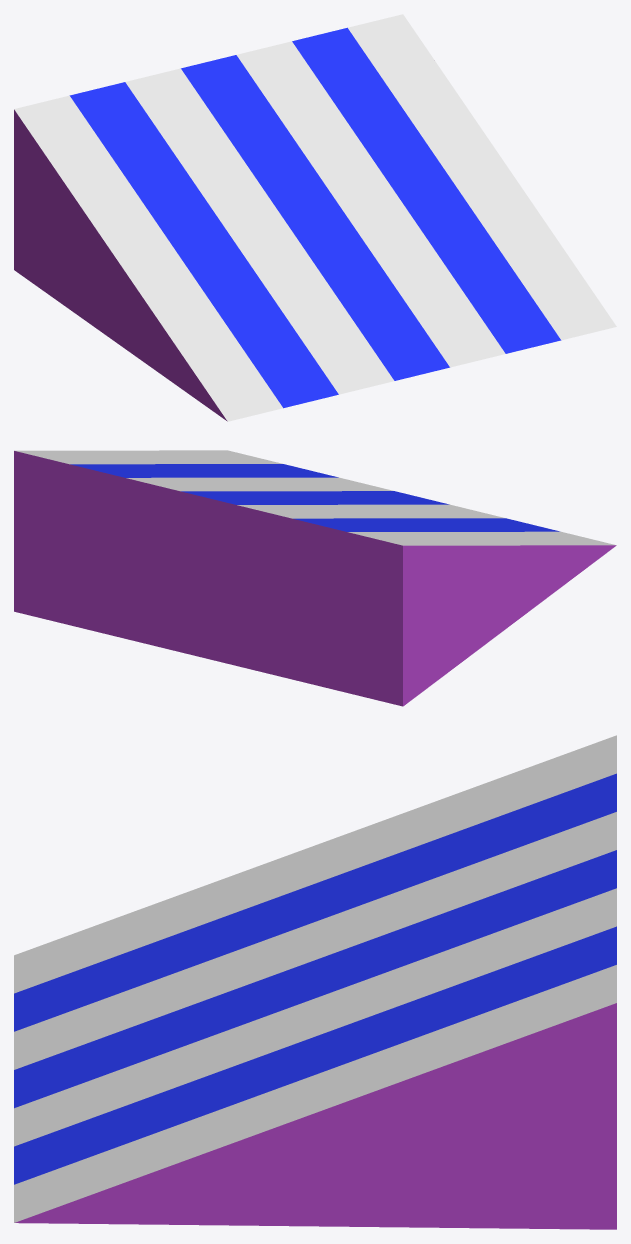
Rendered from rampa.fbx.
3 views of the same model, one above another, from view 1: azimuth 30°, elevation 25°; view 2: azimuth 150°, elevation 25°; view 3: azimuth 270°, elevation 25° (orthographic). The views are drawn at different scales.
Parts seen in each view (by area): view 1: Cube.010; view 2: Cube.010; view 3: Cube.010.
Boxes of the visible parts, <box> form: Cube.010: <box>14,14,616,421</box>; Cube.010: <box>14,450,616,706</box>; Cube.010: <box>14,735,616,1229</box>.
Bounding box in the file's own units: 238 × 94.07 × 227.
